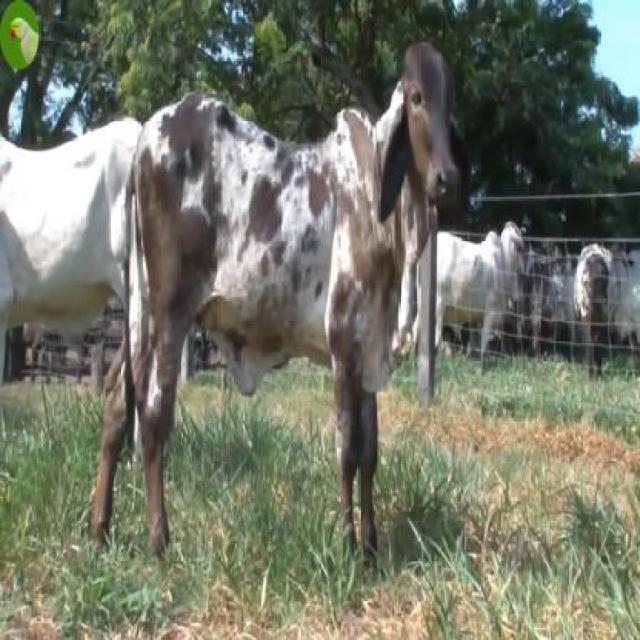Cow: (91, 37, 460, 557)
